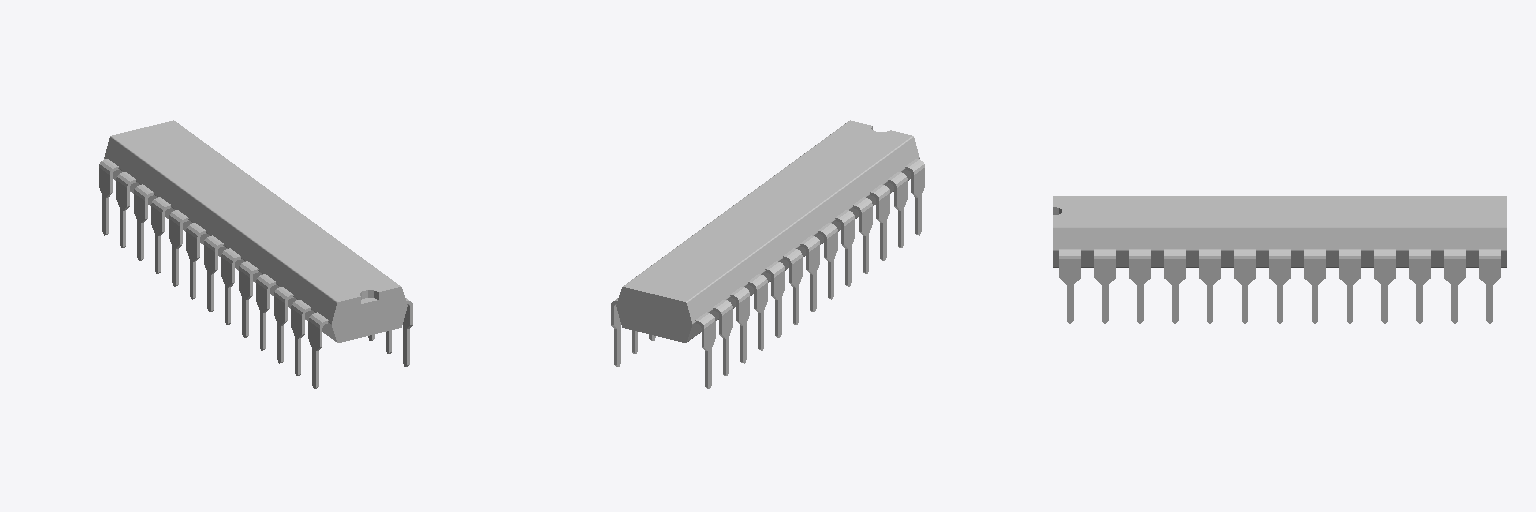
The picture shows the model from 3 angles: view 1: azimuth 30°, elevation 25°; view 2: azimuth 150°, elevation 25°; view 3: azimuth 270°, elevation 25°; orthographic projection.
Parts seen in each view (by area): view 1: Volumenkörper1; view 2: Volumenkörper1; view 3: Volumenkörper1.
Boxes of the visible parts, box(x1,y1,x2,y2) form: Volumenkörper1: box(99, 120, 412, 388); Volumenkörper1: box(611, 120, 924, 388); Volumenkörper1: box(1053, 196, 1506, 323).
Bounding box in the file's own units: 7.87 × 7.17 × 33.02.